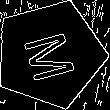M_E: (18, 25, 82, 84)
